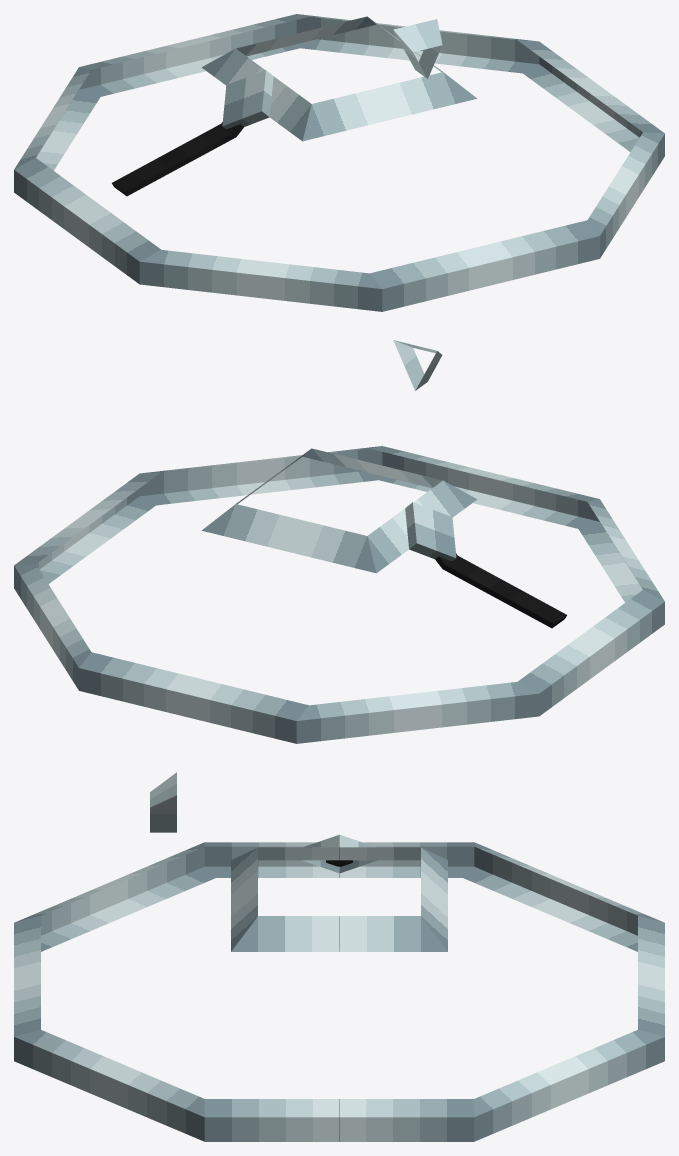
The model's file is hat_floppywitch.obj.
The picture shows the model from 3 angles, top to bottom: view 1: azimuth 30°, elevation 25°; view 2: azimuth 150°, elevation 25°; view 3: azimuth 270°, elevation 25°; orthographic projection. The views are drawn at different scales.
Parts seen in each view (by area): view 1: HAT_FLOPPYWITCH_Circle.004; view 2: HAT_FLOPPYWITCH_Circle.004; view 3: HAT_FLOPPYWITCH_Circle.004.
Part boxes in pixels (x1,y1,x2,y2): HAT_FLOPPYWITCH_Circle.004: (14, 14, 664, 311); HAT_FLOPPYWITCH_Circle.004: (14, 340, 664, 743); HAT_FLOPPYWITCH_Circle.004: (14, 772, 664, 1141).
Size of the model in its own units: 1.5 by 0.5625 by 1.5.
